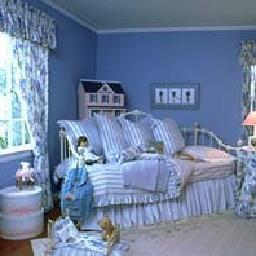Otro Obstaculo: (49, 219, 133, 255)
Ventana: (5, 23, 45, 151)
